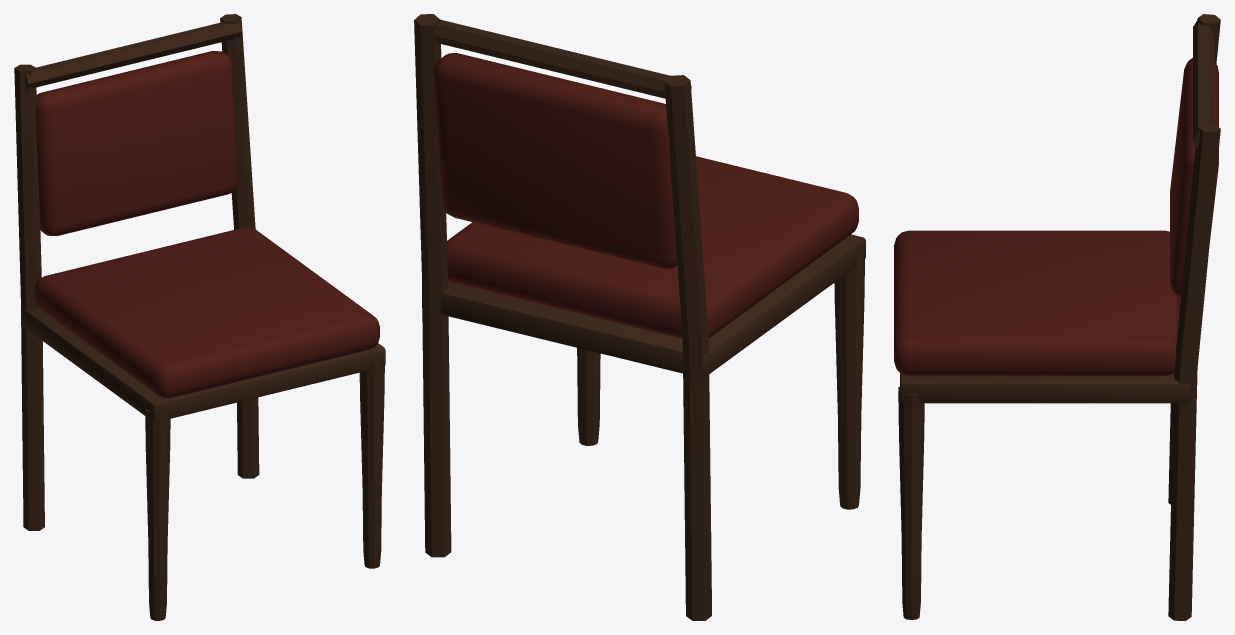
Rendered from meridian_side_chair.glb.
The picture shows the model from 3 angles, left to right: view 1: azimuth 30°, elevation 25°; view 2: azimuth 150°, elevation 25°; view 3: azimuth 270°, elevation 25°; orthographic projection. The views are drawn at different scales.
Parts seen in each view (by area): view 1: meridian_side_chair; view 2: meridian_side_chair; view 3: meridian_side_chair.
Boxes of the visible parts, x1,y1,x2,y2 form: meridian_side_chair: [14, 14, 385, 620]; meridian_side_chair: [414, 14, 865, 620]; meridian_side_chair: [894, 14, 1220, 620].
Bounding box in the file's own units: 0.508 × 0.9222 × 0.5599.
